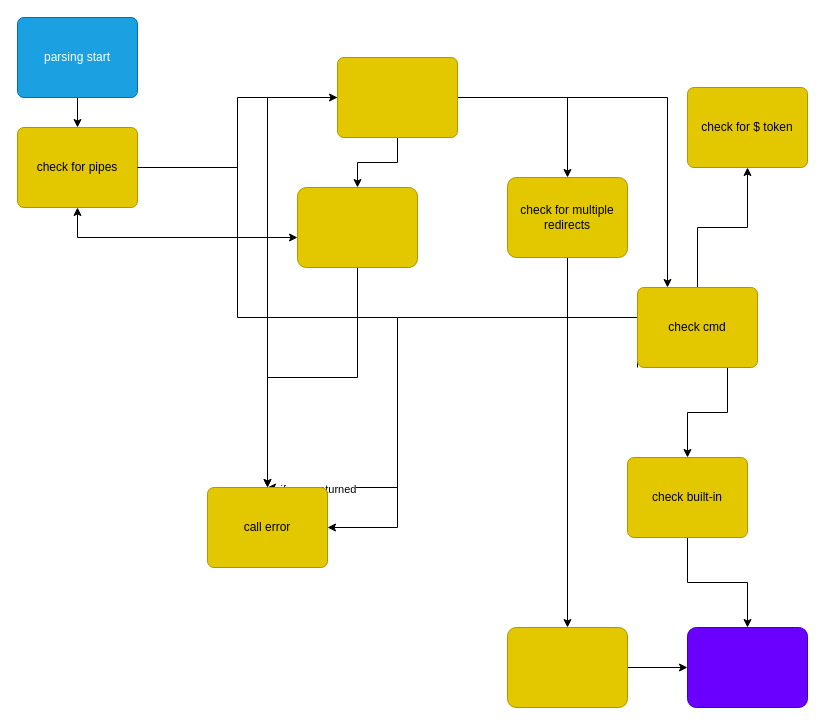
Some shapes in this 825 by 725 pixel diagram are drawn without their labels. The shapes that lost their labels are listed below. From the top down, each one's centre as x and y in pixels, then its label:
At (397,97): "check for redirects".
At (357,227): "open fd (in before out)".
At (567,667): "send only last redirect for exec".
At (747,667): "send to exec".
